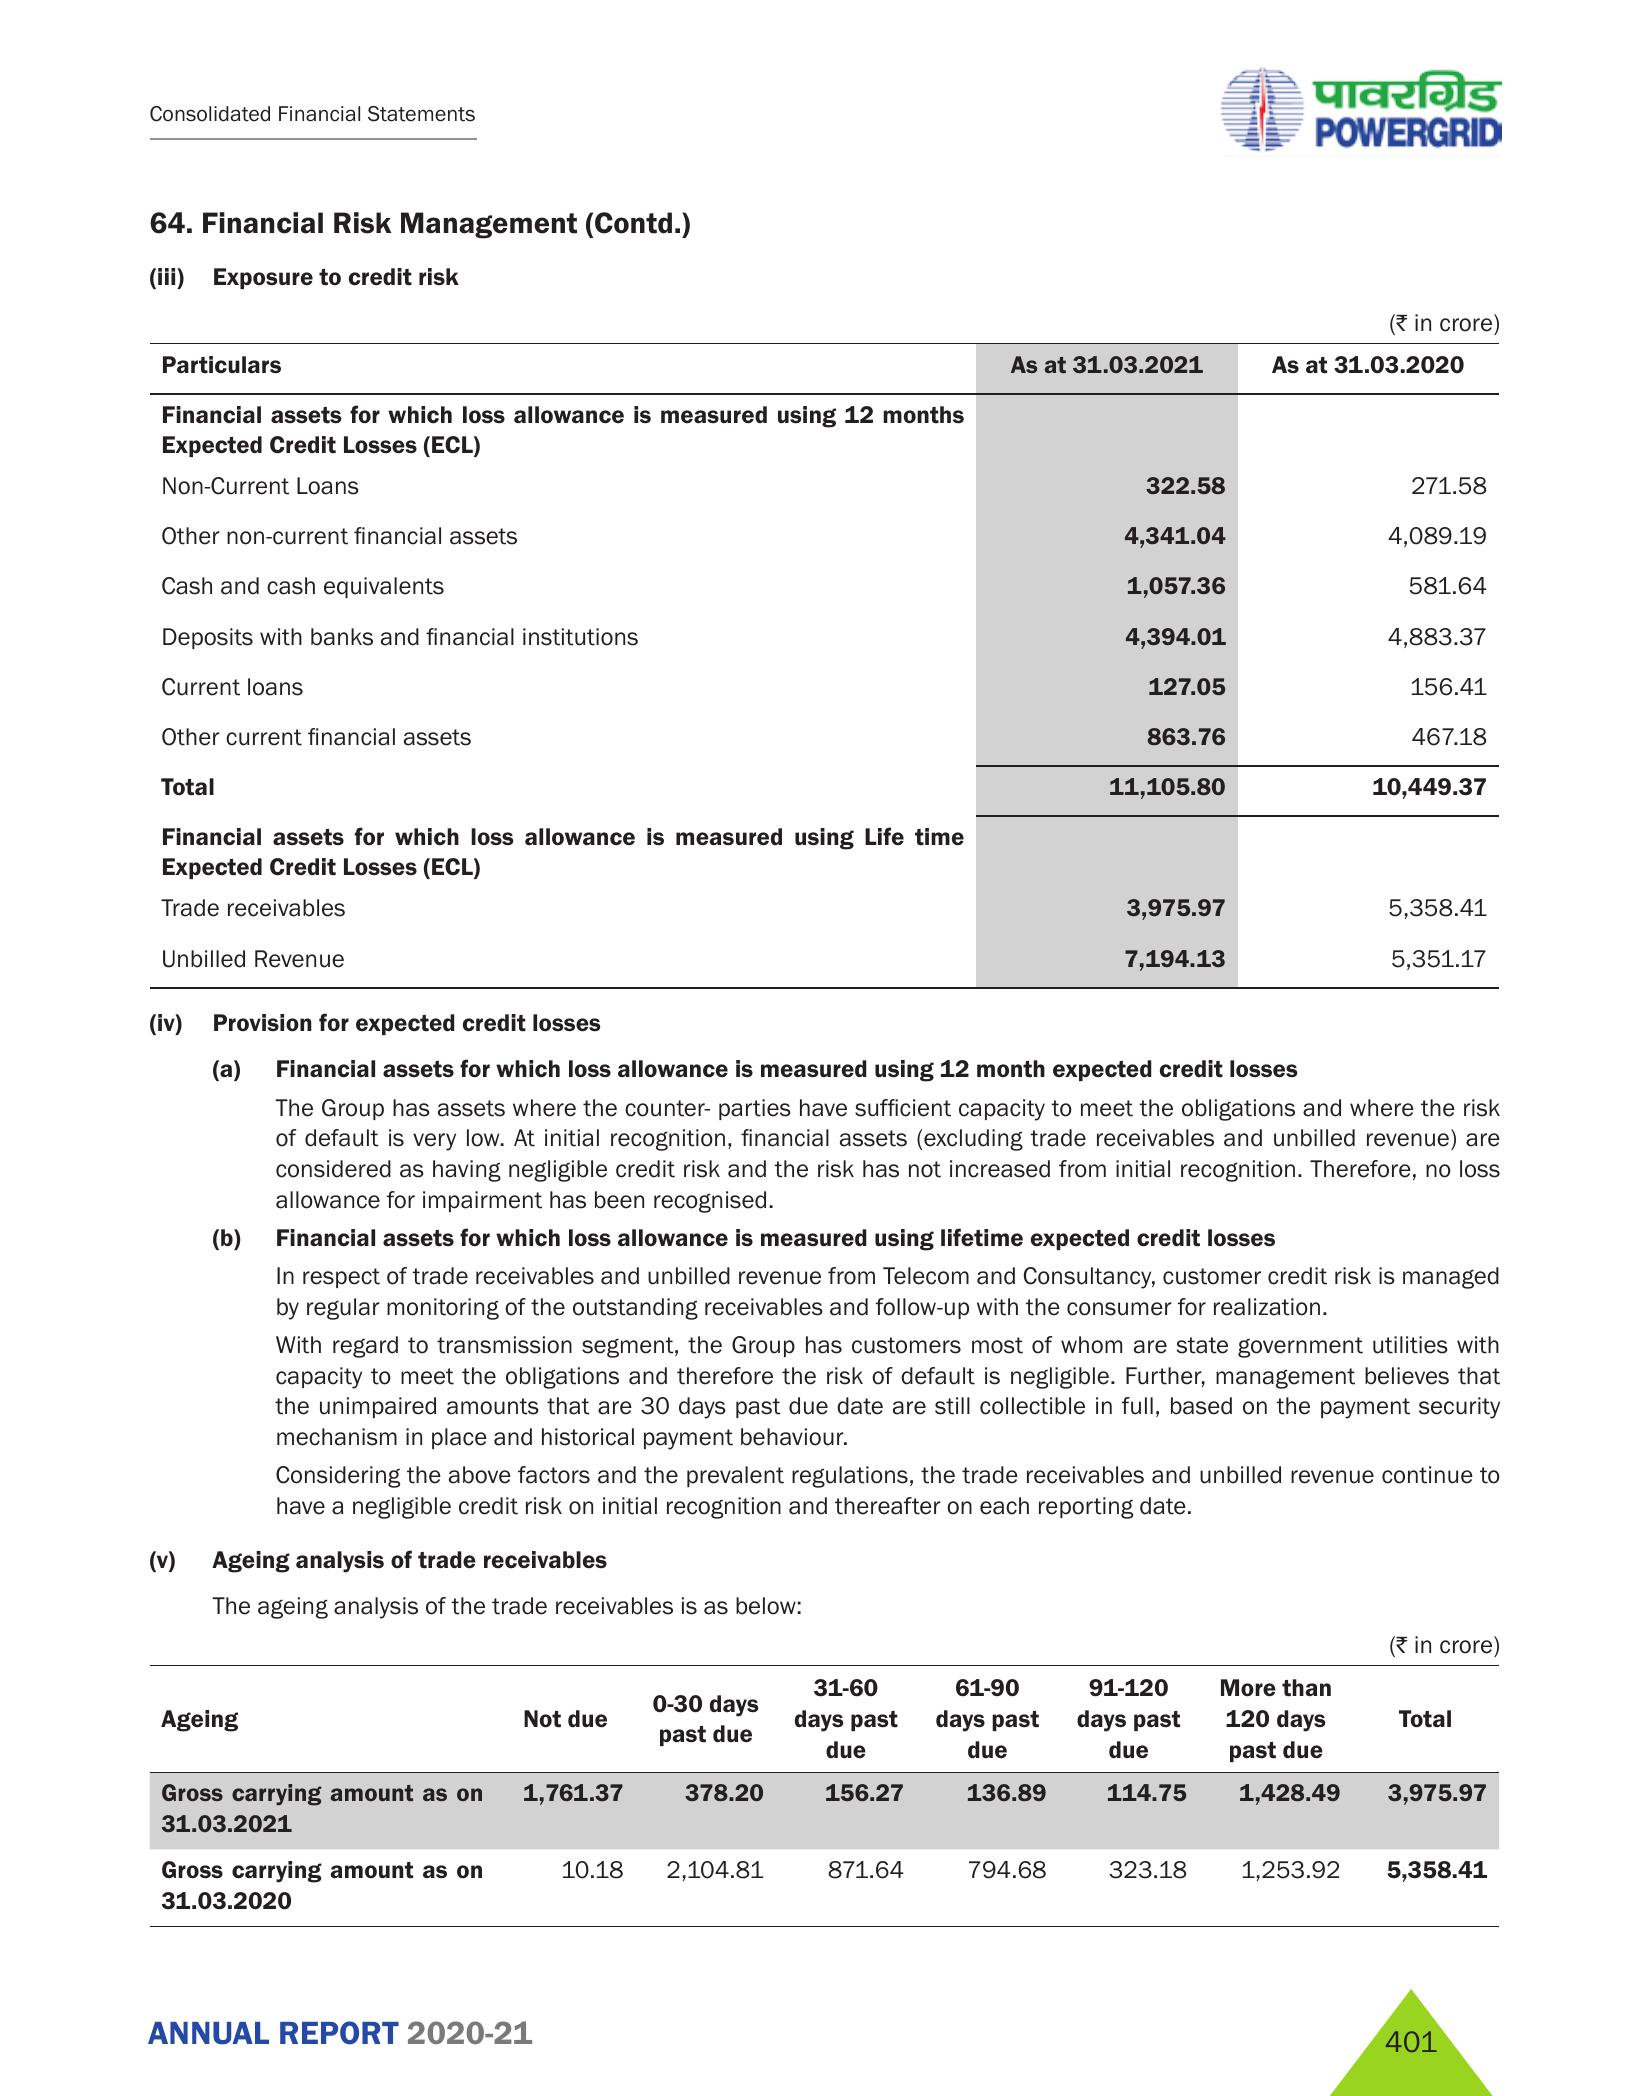Footer: (0, 1968, 1650, 2096)
Header: (0, 0, 1650, 172)
Table: (139, 335, 1504, 994), (126, 1659, 1516, 1933)
